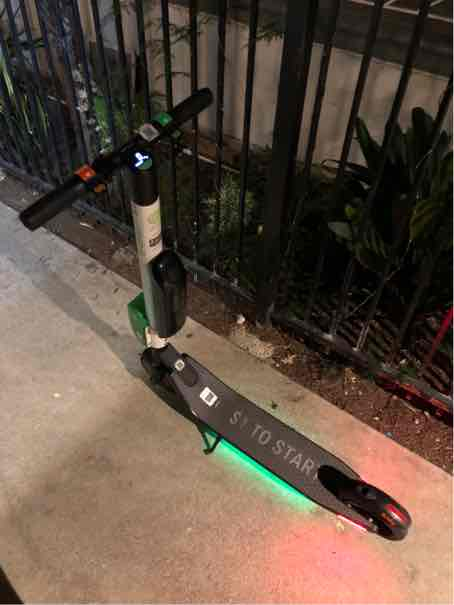scooter: (14, 90, 420, 572)
